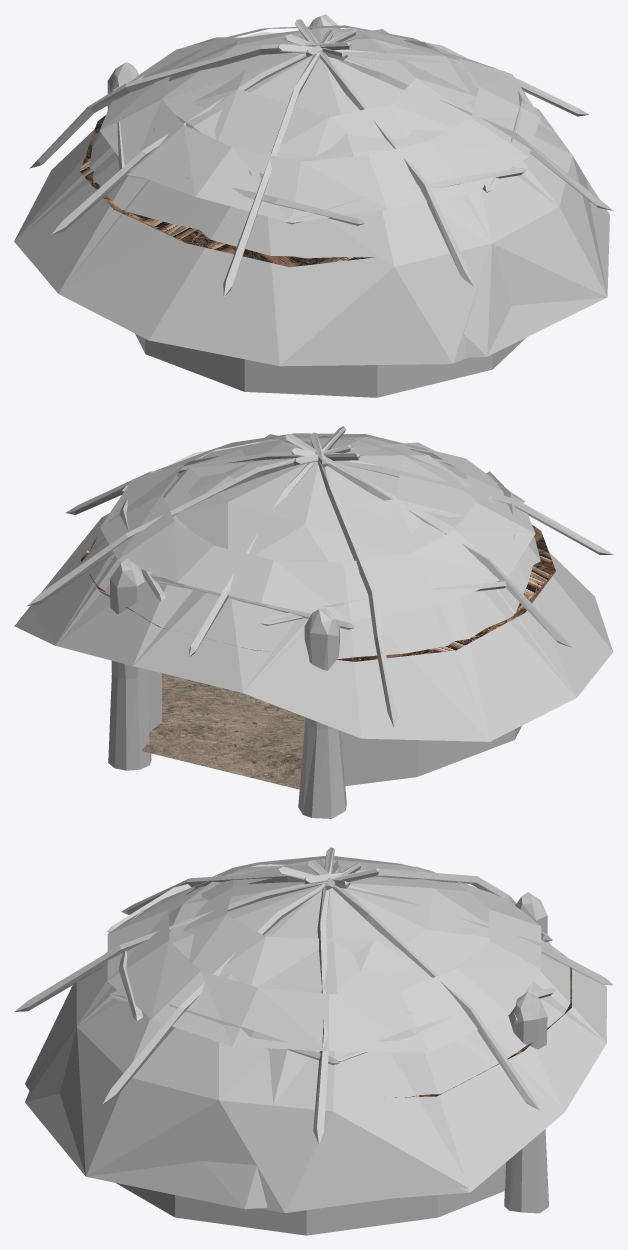
The model's file is Sty_1_LOD2.fbx.
The picture shows the model from 3 angles, top to bottom: view 1: azimuth 30°, elevation 25°; view 2: azimuth 150°, elevation 25°; view 3: azimuth 270°, elevation 25°; orthographic projection. The views are drawn at different scales.
Visible parts, largest first — view 1: Alpha, Wood, Roof; view 2: Alpha, Wood, Ground, Roof; view 3: Alpha, Wood.
Boxes of the visible parts, left/top/right/bottom form: Alpha: left=14, top=25, right=609, bottom=366; Wood: left=30, top=14, right=613, bottom=397; Roof: left=80, top=115, right=374, bottom=267; Alpha: left=14, top=433, right=612, bottom=741; Wood: left=27, top=426, right=613, bottom=818; Ground: left=141, top=673, right=305, bottom=789; Roof: left=80, top=525, right=555, bottom=661; Alpha: left=25, top=856, right=606, bottom=1212; Wood: left=14, top=847, right=613, bottom=1235.
Size of the model in its own units: 851 by 811 by 431.
